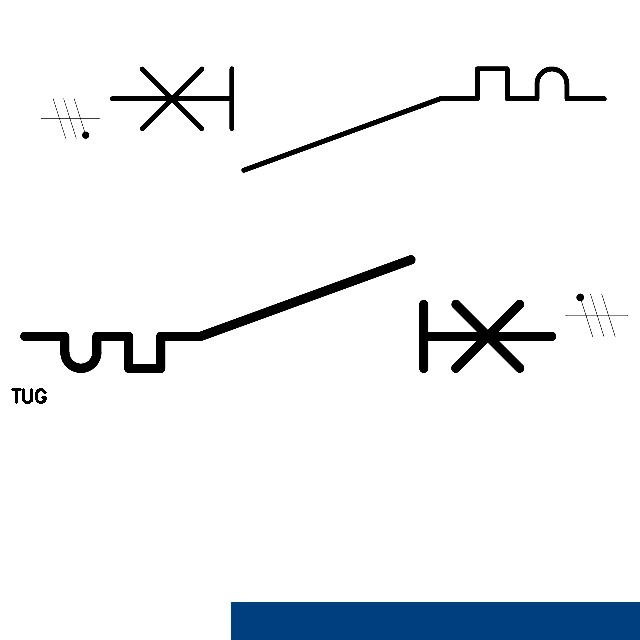interruptor_termomagnetico: (11, 246, 565, 382), (99, 56, 617, 183)
